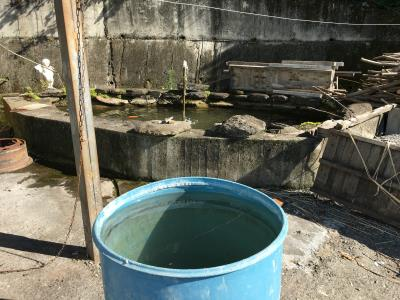bucket: (87, 175, 291, 299)
